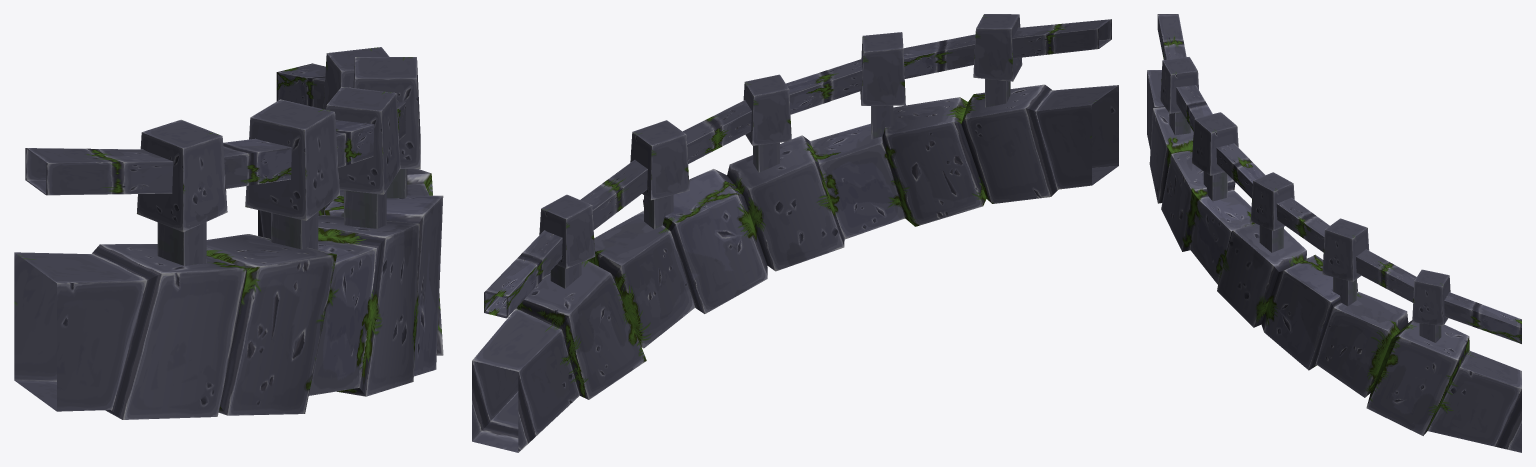
File: MOD_Stairs_01_Railing_NW.fbx
3 views of the same model, side by side, from view 1: azimuth 30°, elevation 25°; view 2: azimuth 150°, elevation 25°; view 3: azimuth 270°, elevation 25° (orthographic). The views are drawn at different scales.
Parts seen in each view (by area): view 1: MOD_Stairs_01_Railing_NW; view 2: MOD_Stairs_01_Railing_NW; view 3: MOD_Stairs_01_Railing_NW.
Boxes of the visible parts, <box> form: MOD_Stairs_01_Railing_NW: <box>14,47,443,419</box>; MOD_Stairs_01_Railing_NW: <box>472,14,1118,452</box>; MOD_Stairs_01_Railing_NW: <box>1147,14,1521,452</box>.
Size of what is drawn, in the model's own units: 425 by 350 by 424.
